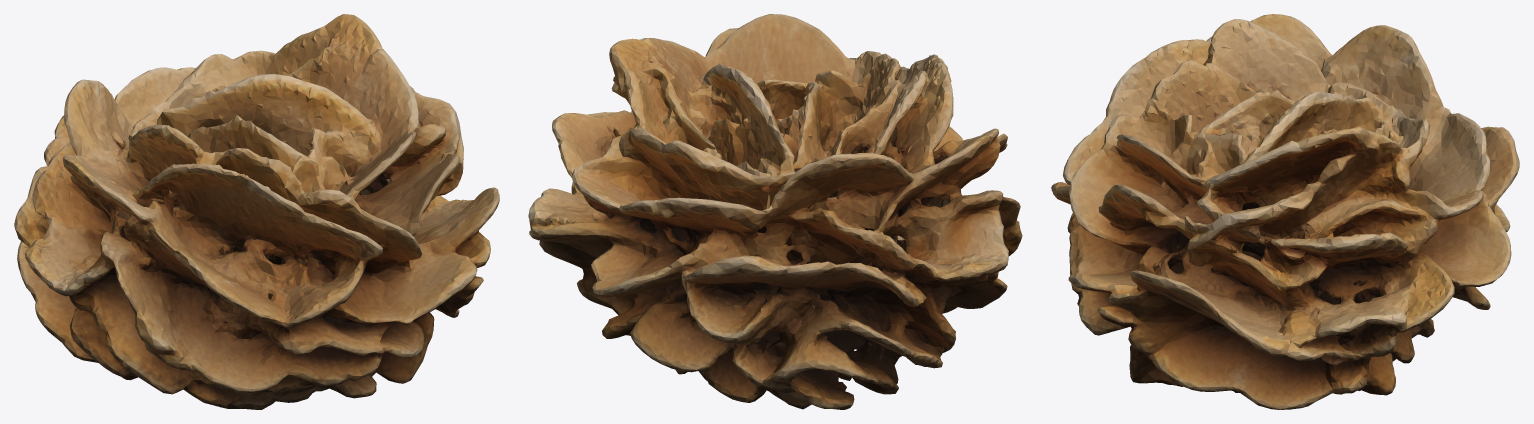
3 views of the same model, side by side, from view 1: azimuth 30°, elevation 25°; view 2: azimuth 150°, elevation 25°; view 3: azimuth 270°, elevation 25° (orthographic). The views are drawn at different scales.
Visible parts, largest first — view 1: world; view 2: world; view 3: world.
Part boxes in pixels (x1,y1,x2,y2): world: (14, 14, 499, 409); world: (528, 14, 1022, 409); world: (1051, 14, 1519, 409).
Size of the model in its own units: 0.16 by 0.1083 by 0.151.
Materials: 1 (1 with a texture image).
